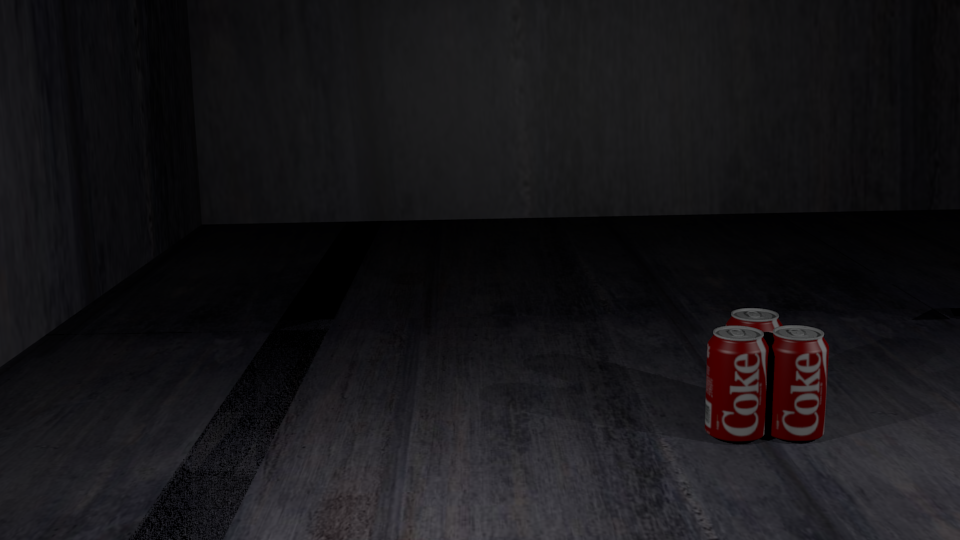cola_can: (706, 326, 768, 438), (766, 326, 828, 437), (727, 308, 782, 415)
